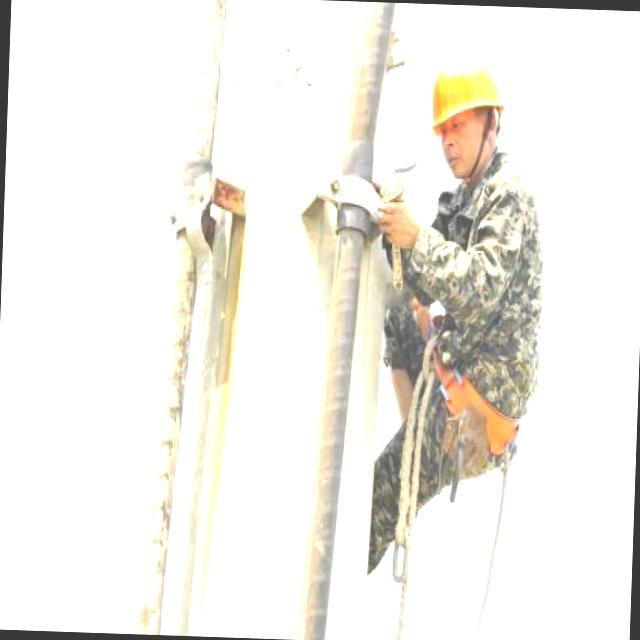helmet: (420, 58, 510, 146)
no-goggles: (437, 108, 482, 138)
no-vest: (428, 143, 548, 436)
